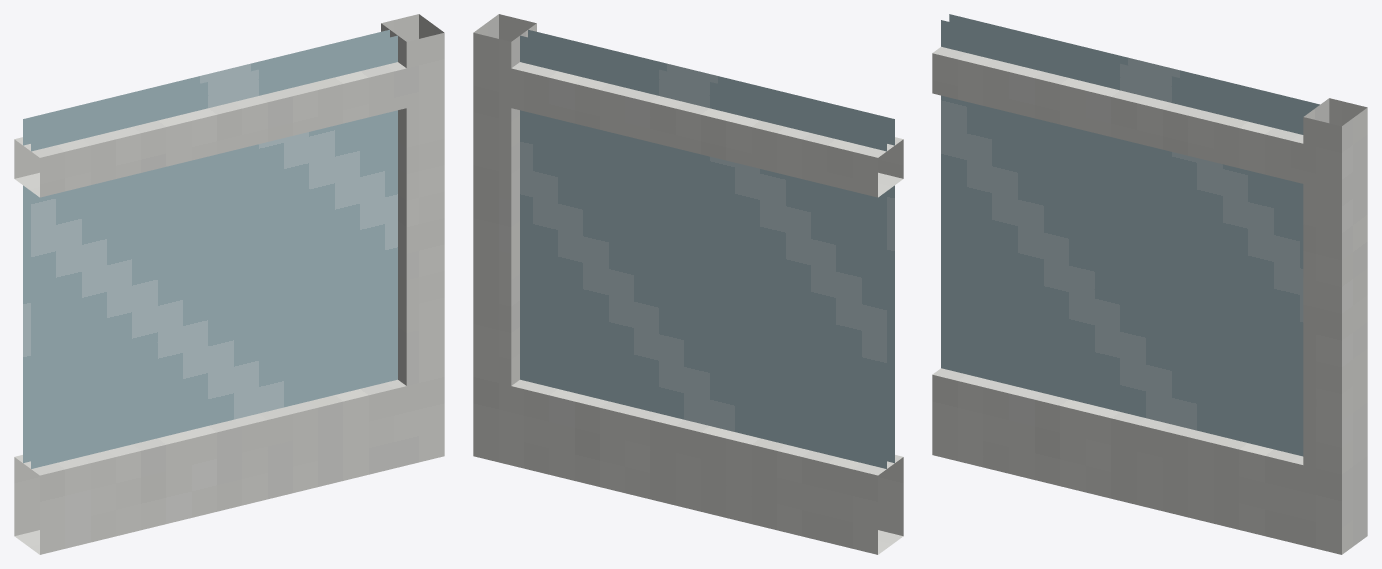
Rendered from auto_door_wide_slider_white_c1_lower_left_open.obj.
3 renders of one model, left to right at view 1: azimuth 30°, elevation 25°; view 2: azimuth 150°, elevation 25°; view 3: azimuth 330°, elevation 25°, orthographic.
Visible parts, largest first — view 1: auto_door_wide_slider_white_c1_lower_left_open; view 2: auto_door_wide_slider_white_c1_lower_left_open; view 3: auto_door_wide_slider_white_c1_lower_left_open.
Boxes of the visible parts, box(x1,y1,x2,y2) form: auto_door_wide_slider_white_c1_lower_left_open: box(14, 14, 444, 554); auto_door_wide_slider_white_c1_lower_left_open: box(473, 14, 903, 554); auto_door_wide_slider_white_c1_lower_left_open: box(932, 14, 1367, 554).
Size of the model in its own units: 1 by 1 by 0.1094.
